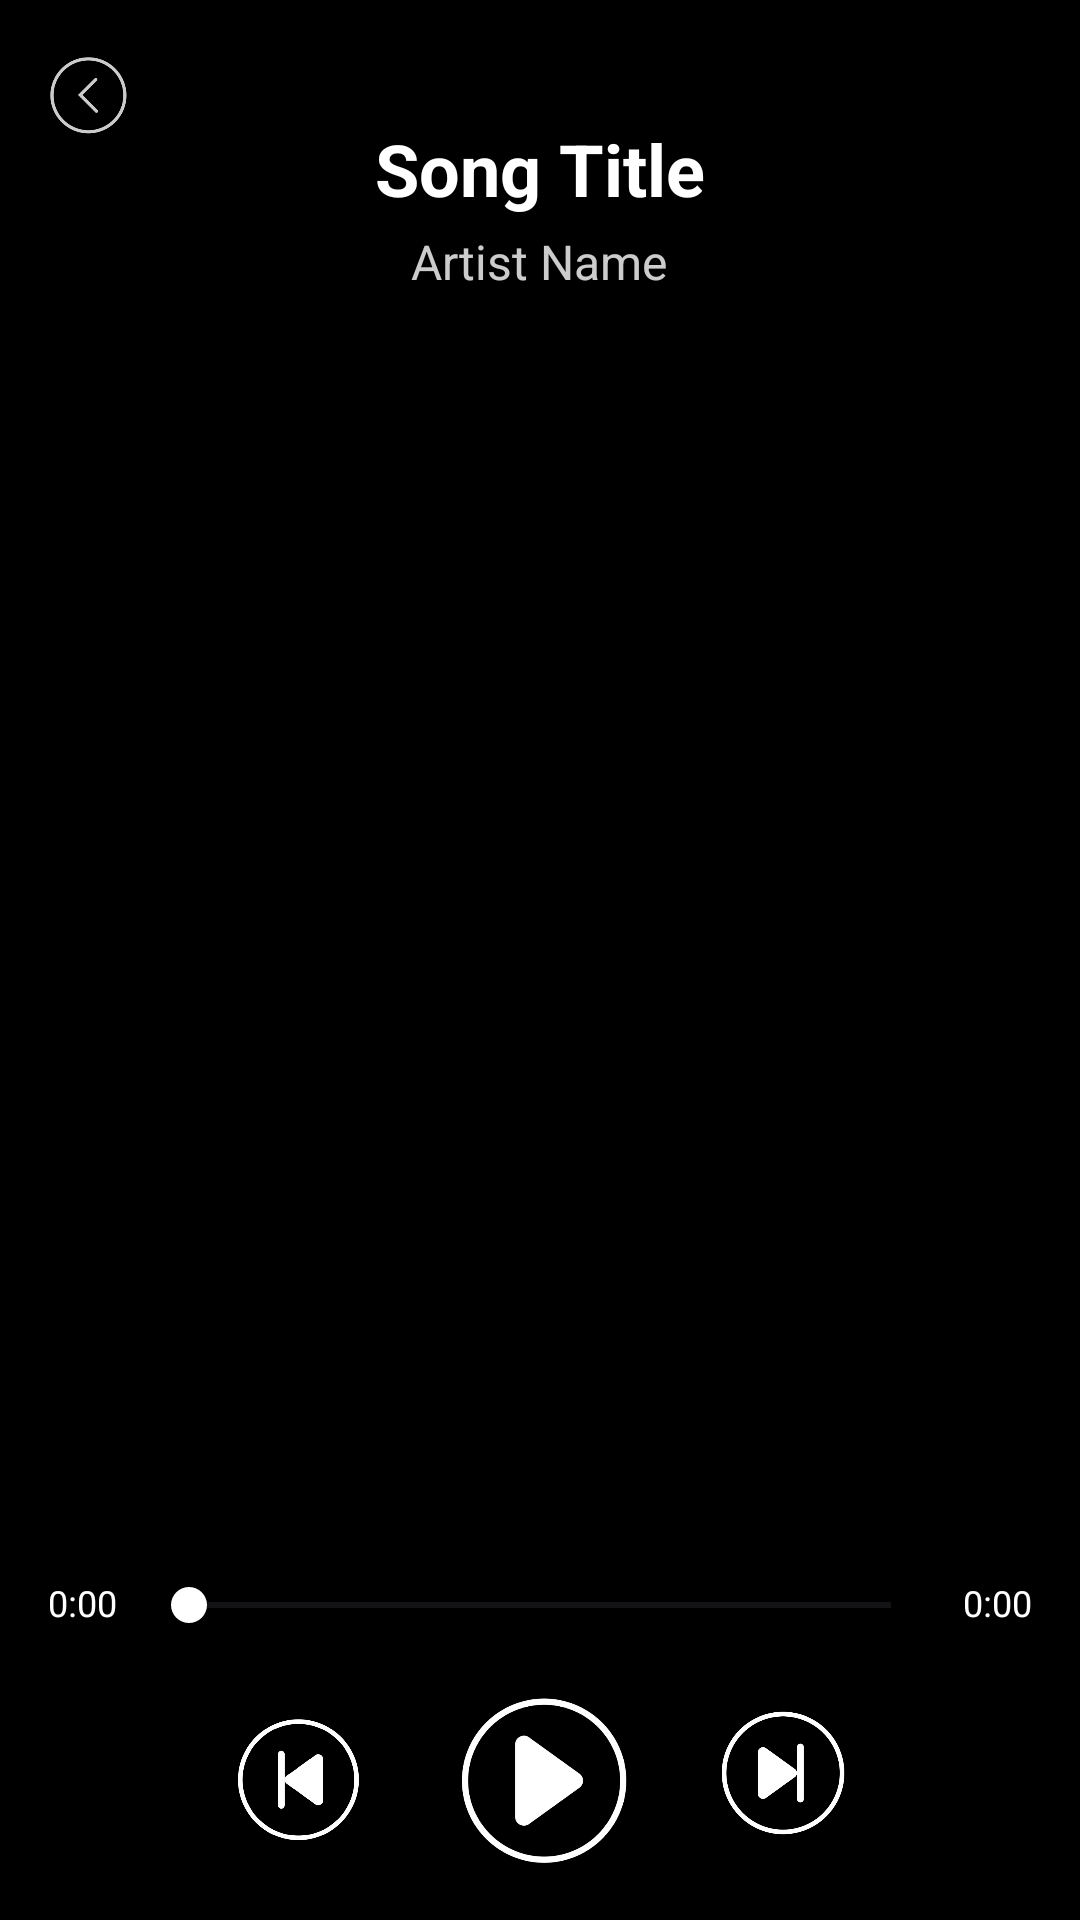

Where to tap for icons on this 1080×1920 app screen, as point (x, y):
Back Button: point (88, 95)
next: point (783, 1773)
play: point (544, 1780)
previous: point (298, 1779)
